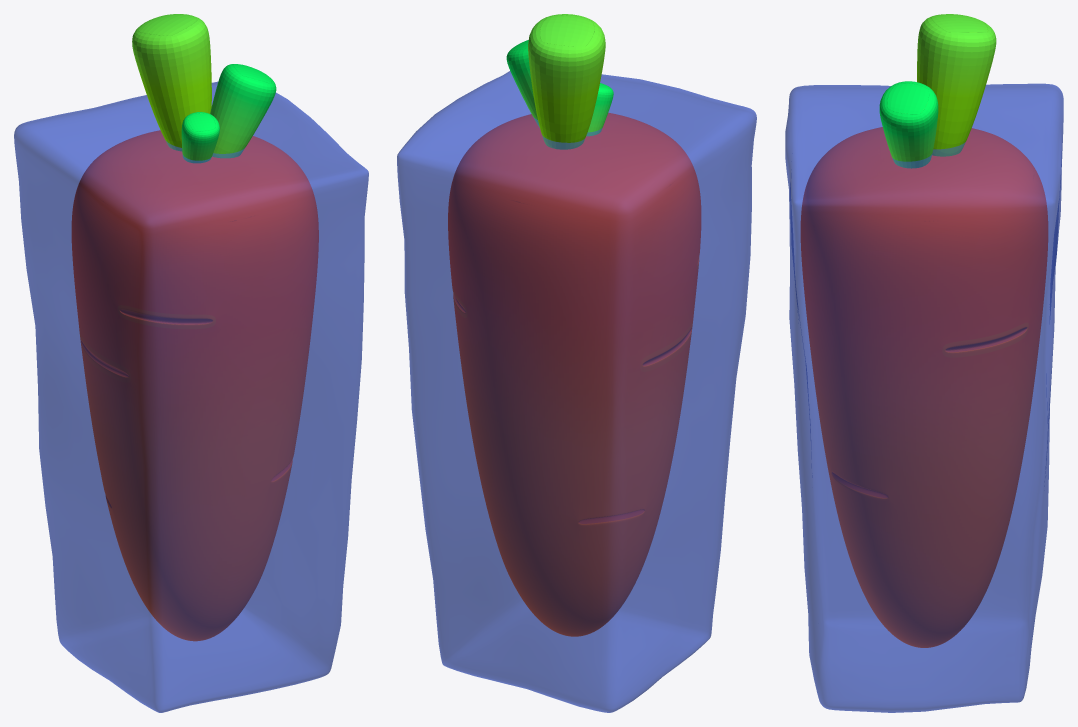
The model's file is carrot.fbx_Collection.fbx_carrot_beku.fbx.
3 renders of one model, left to right at view 1: azimuth 30°, elevation 25°; view 2: azimuth 150°, elevation 25°; view 3: azimuth 270°, elevation 25°, orthographic. The views are drawn at different scales.
Parts seen in each view (by area): view 1: Cube.008, Cube.004, Cube.006, Cube.007, Cube.005; view 2: Cube.008, Cube.004, Cube.006, Cube.007, Cube.005; view 3: Cube.008, Cube.004, Cube.006, Cube.007.
Part boxes in pixels (x1,y1,x2,y2): Cube.008: (14, 81, 368, 712); Cube.004: (71, 130, 318, 641); Cube.006: (132, 14, 211, 151); Cube.007: (210, 64, 276, 158); Cube.005: (181, 112, 219, 163); Cube.008: (397, 71, 756, 712); Cube.004: (448, 113, 701, 636); Cube.006: (528, 14, 605, 149); Cube.007: (506, 40, 539, 127); Cube.005: (586, 83, 613, 136); Cube.008: (785, 83, 1063, 712); Cube.004: (800, 127, 1048, 647); Cube.006: (917, 14, 996, 156); Cube.007: (879, 81, 938, 168).
Size of the model in its own units: 200 by 509 by 198.
Materials: 6 (4 with a texture image).
